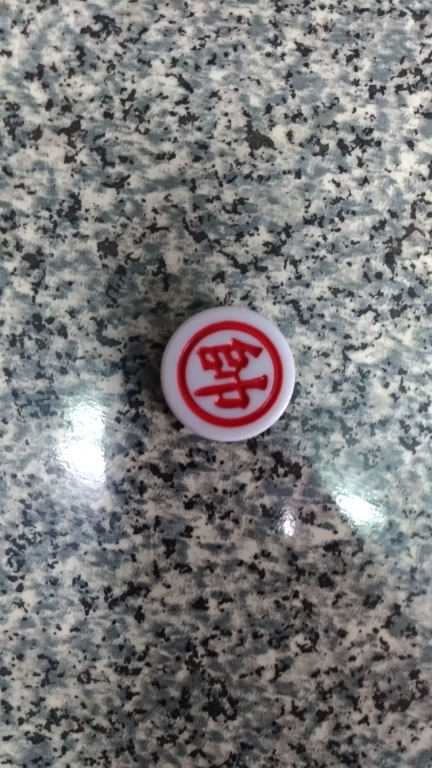r-king: (147, 300, 315, 448)
